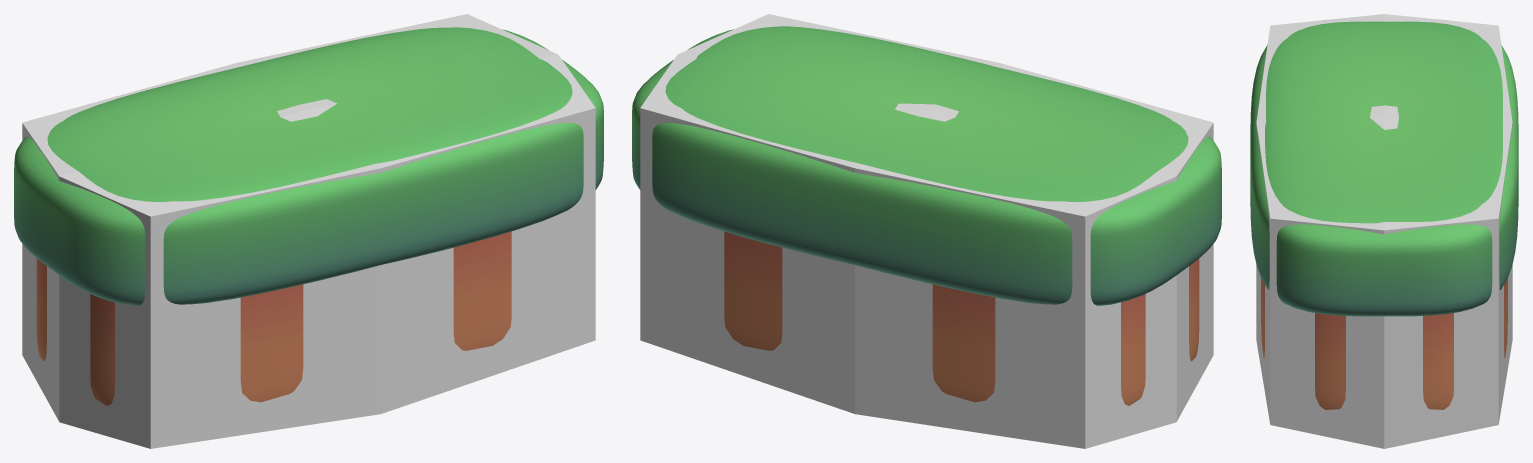
File: PlatformMediumLow.glb
The picture shows the model from 3 angles, left to right: view 1: azimuth 30°, elevation 25°; view 2: azimuth 150°, elevation 25°; view 3: azimuth 270°, elevation 25°; orthographic projection. The views are drawn at different scales.
Visible parts, largest first — view 1: PlatformMediumLow, colision-colonly.010; view 2: PlatformMediumLow, colision-colonly.010; view 3: PlatformMediumLow, colision-colonly.010.
Boxes of the visible parts, bbox=[...] form: PlatformMediumLow: bbox=[14, 27, 603, 405]; colision-colonly.010: bbox=[22, 14, 595, 448]; PlatformMediumLow: bbox=[632, 26, 1221, 405]; colision-colonly.010: bbox=[640, 14, 1213, 448]; PlatformMediumLow: bbox=[1250, 19, 1518, 409]; colision-colonly.010: bbox=[1256, 14, 1512, 448].
Size of the model in its own units: 4 by 1.85 by 2.
1 material, 1 textured.
